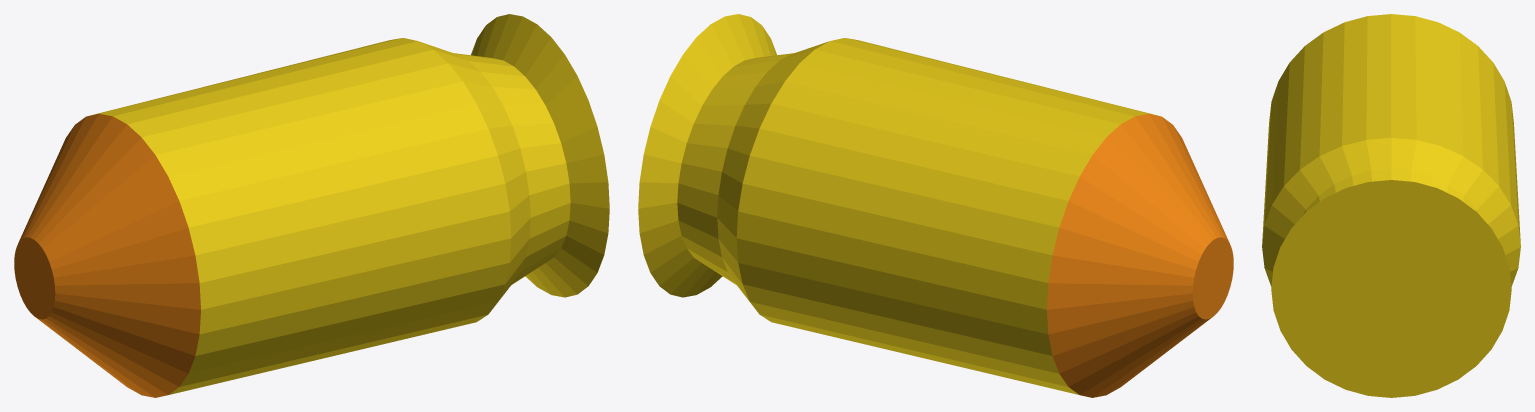
File: Bullet.fbx
3 views of the same model, side by side, from view 1: azimuth 30°, elevation 25°; view 2: azimuth 150°, elevation 25°; view 3: azimuth 270°, elevation 25° (orthographic). The views are drawn at different scales.
Parts seen in each view (by area): view 1: Cylinder; view 2: Cylinder; view 3: Cylinder.
Part boxes in pixels (bbox=[...]): Cylinder: bbox=[14, 14, 609, 397]; Cylinder: bbox=[638, 14, 1233, 397]; Cylinder: bbox=[1262, 14, 1520, 397].
Size of the model in its own units: 80 by 40 by 43.05.
